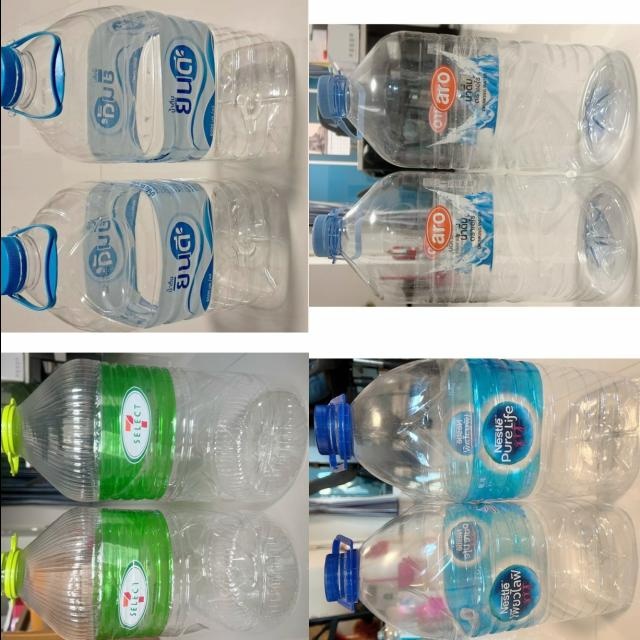plastik: (313, 360, 640, 501), (0, 6, 292, 163), (316, 31, 634, 173), (0, 359, 306, 502), (0, 180, 288, 331), (324, 501, 635, 639), (312, 172, 631, 304), (0, 507, 298, 640)
